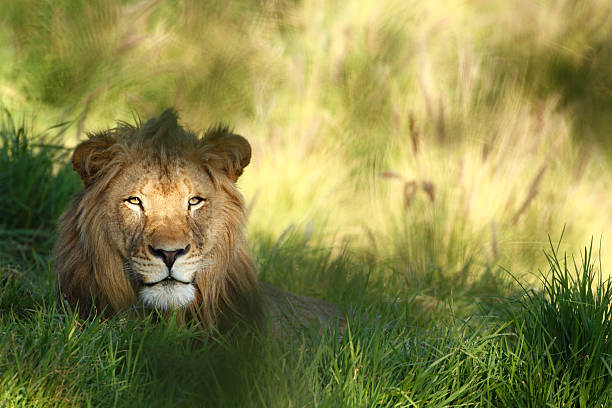lion: (52, 115, 276, 338)
